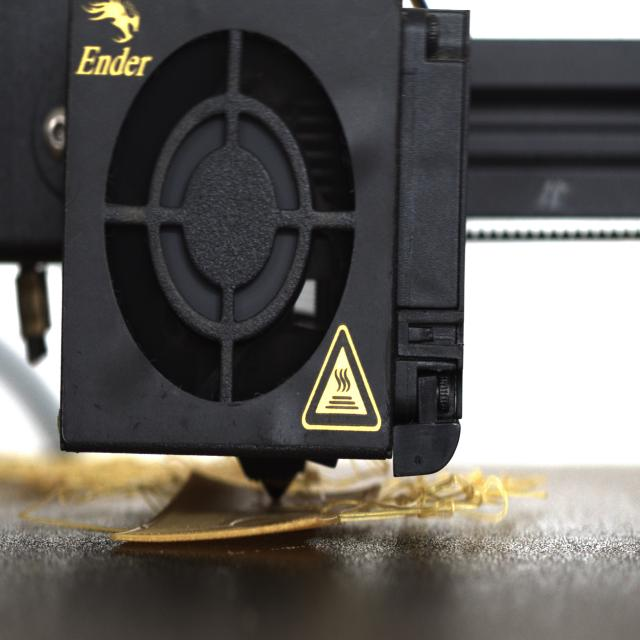Without deffect: (90, 25, 371, 425)
